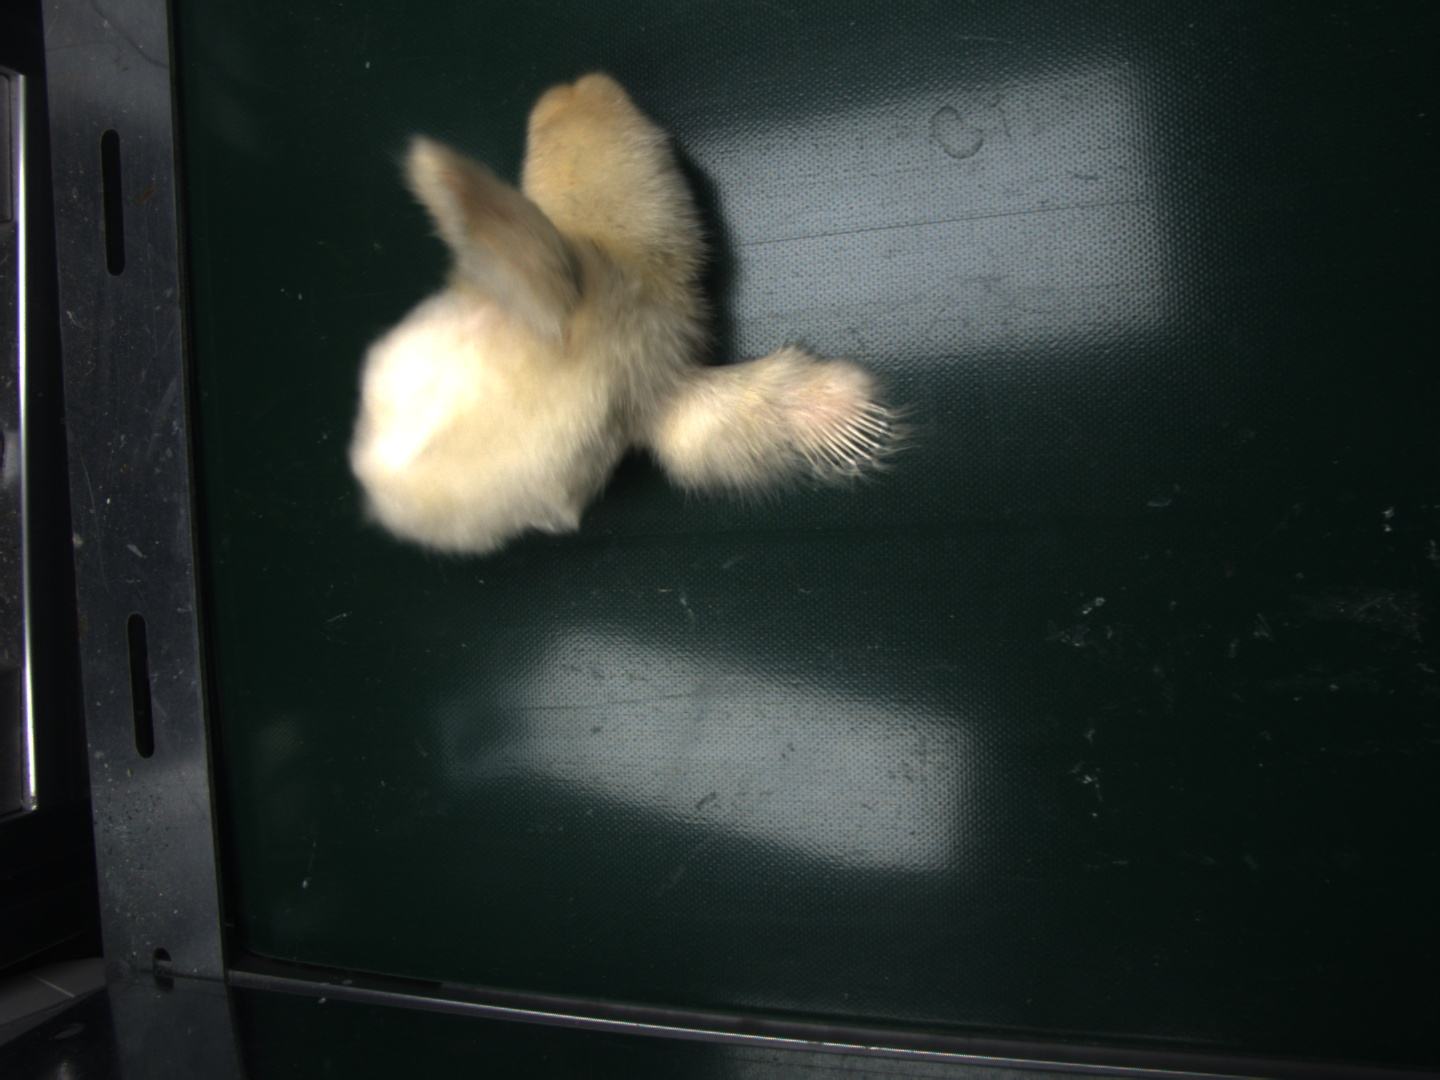male: (806, 402, 889, 467)
